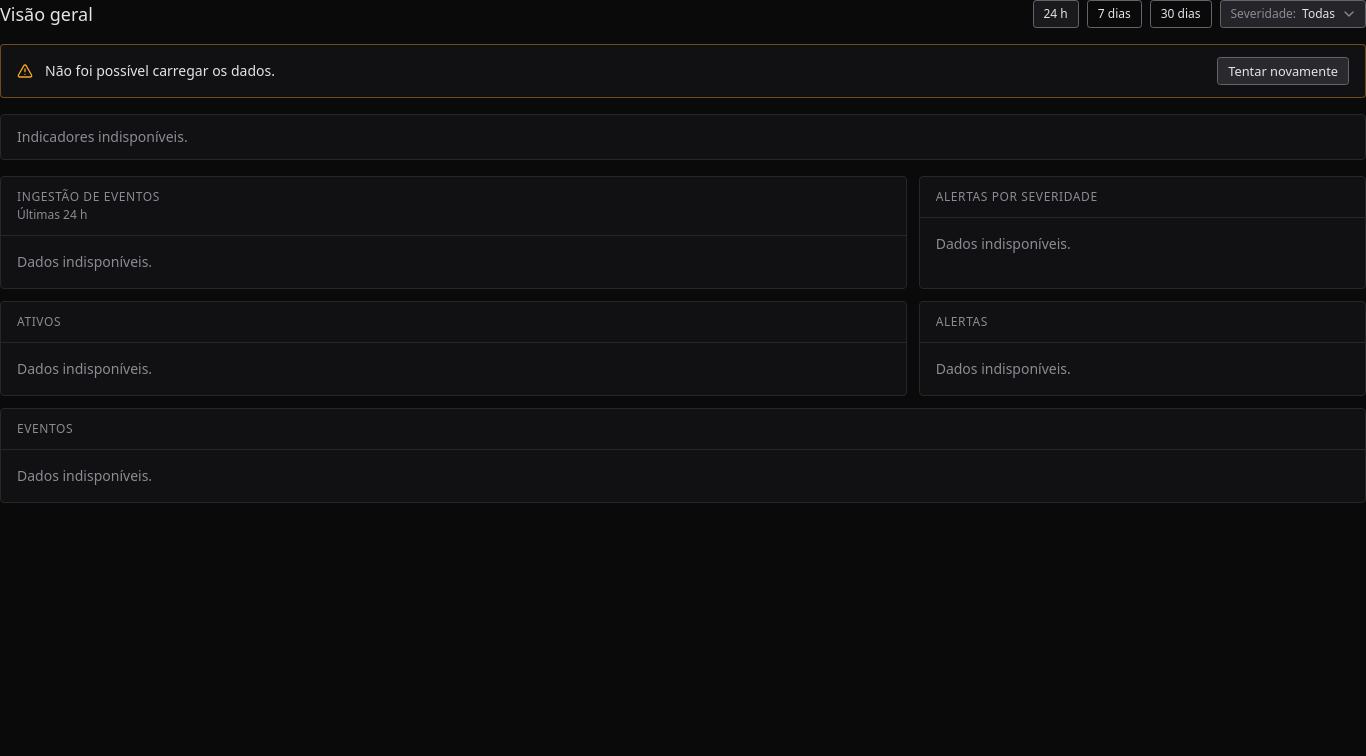
Test case: OverviewPage › erro: um único aviso e um único "Tentar novamente", que recupera todos os painéis
Expected: the message shows "Não foi possível carregar os dados.", [45,61,275,80]
Expected: the number of messages is 1, [0,44,1365,98]
Click the button "Tentar novamente" at x=1283, y=71, box [1217,57,1349,85]
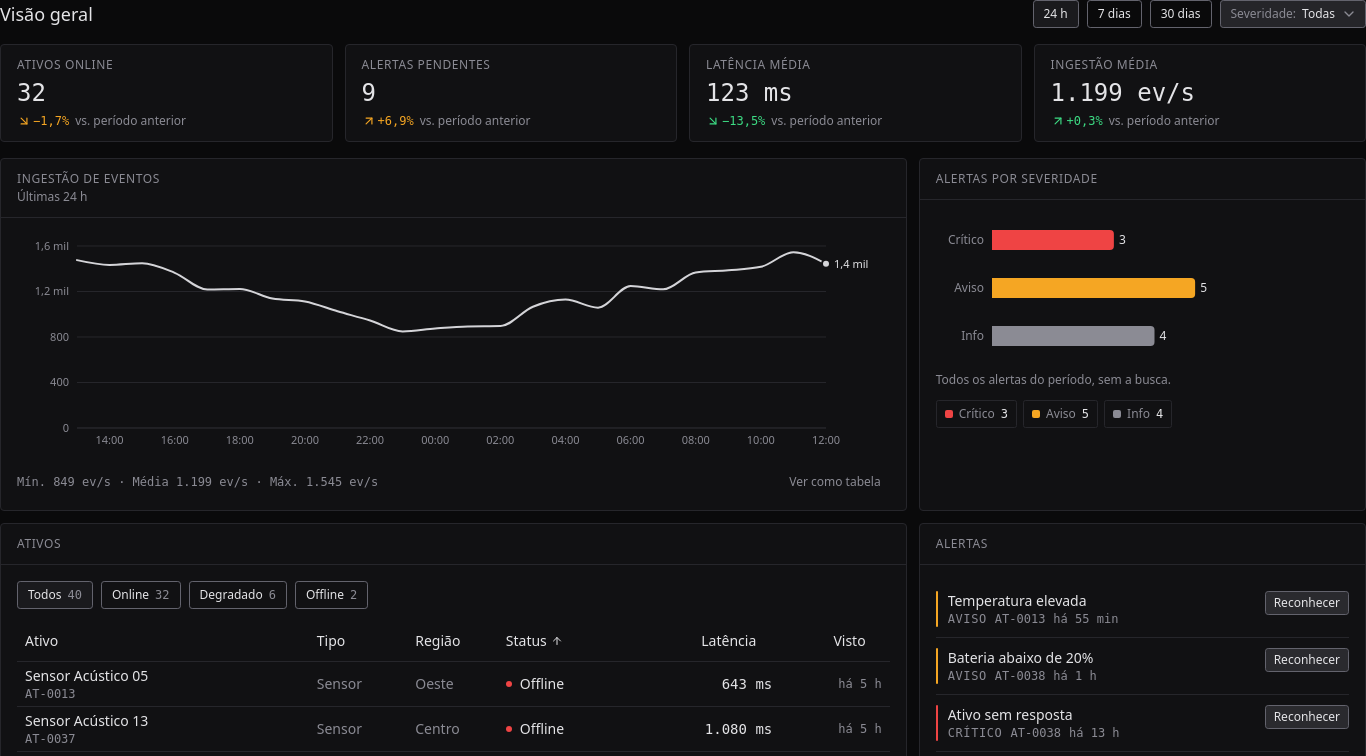
Expected: the text "Latência média" is shown, [706,56,810,73]
Expected: the message "Não foi possível carregar os dados. Tentar novamente" is gone
